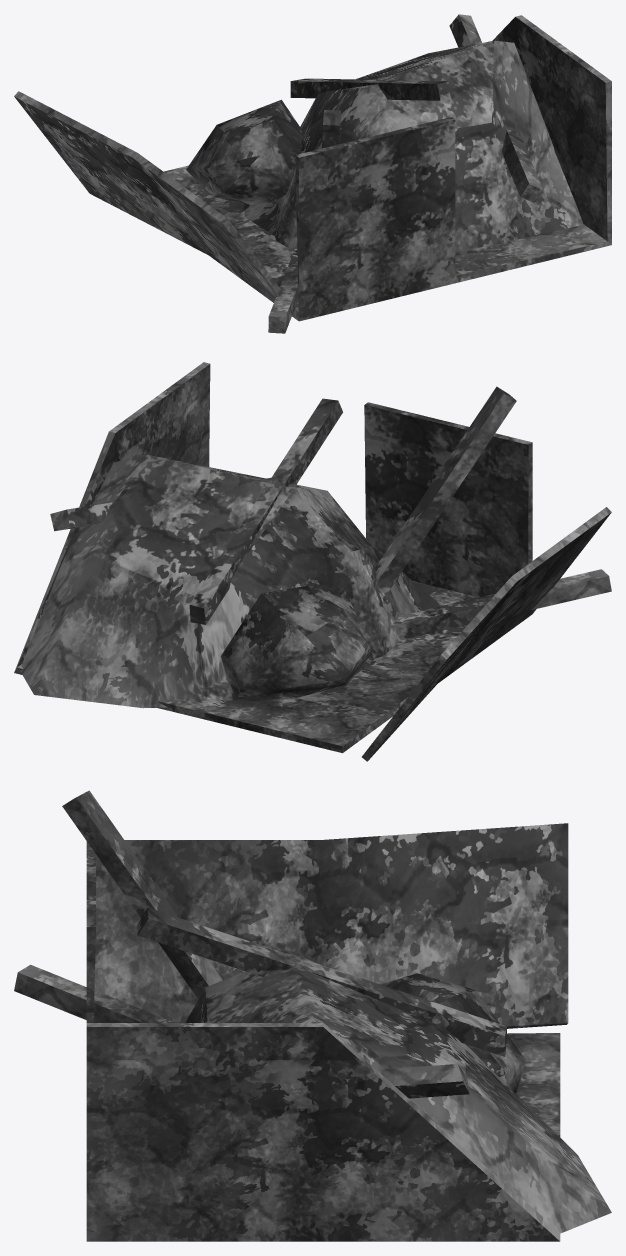
File: HouseDestroyed2.fbx
3 renders of one model, top to bottom at view 1: azimuth 30°, elevation 25°; view 2: azimuth 150°, elevation 25°; view 3: azimuth 270°, elevation 25°, orthographic. The views are drawn at different scales.
Visible parts, largest first — view 1: Dhouse2; view 2: Dhouse2; view 3: Dhouse2.
Boxes of the visible parts, <box> form: Dhouse2: <box>14,14,611,333</box>; Dhouse2: <box>14,362,611,761</box>; Dhouse2: <box>14,790,611,1241</box>.
Bounding box in the file's own units: 1821 × 854 × 1724.
